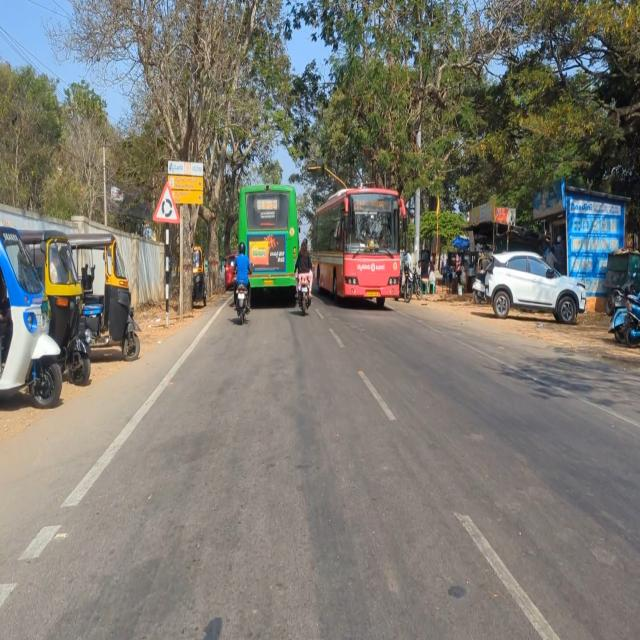bien_cam: (152, 178, 181, 226)
